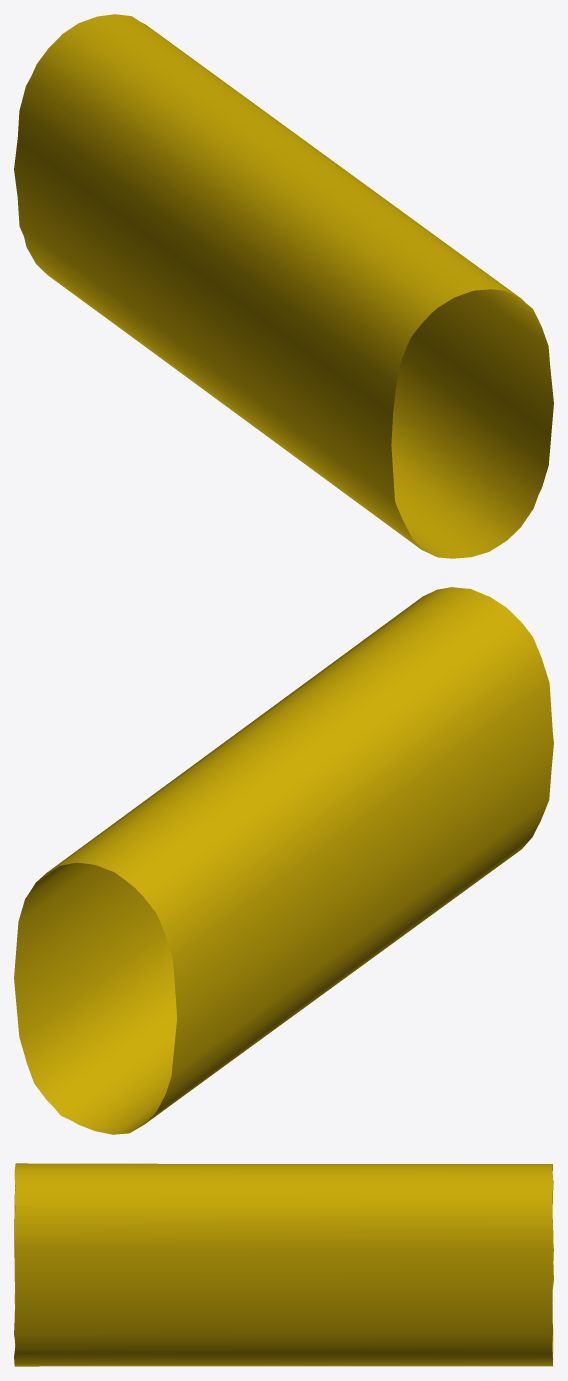
Rendered from original_18.obj.
3 renders of one model, top to bottom at view 1: azimuth 30°, elevation 25°; view 2: azimuth 150°, elevation 25°; view 3: azimuth 270°, elevation 25°, orthographic. The views are drawn at different scales.
Parts seen in each view (by area): view 1: #ID111; view 2: #ID111; view 3: #ID111.
Part boxes in pixels (left/top/right/bottom): #ID111: left=14, top=14, right=553, bottom=558; #ID111: left=14, top=587, right=553, bottom=1134; #ID111: left=14, top=1163, right=553, bottom=1366.
Bounding box in the file's own units: 0.0196 × 0.0303 × 0.0775.
